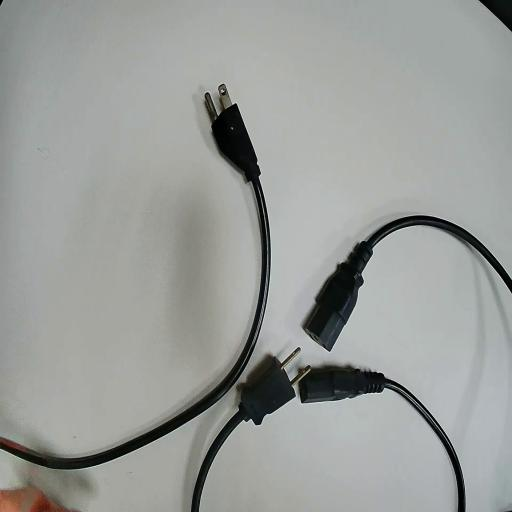wire: (0, 99, 267, 468), (304, 216, 511, 348), (299, 366, 464, 511), (191, 357, 309, 511)
